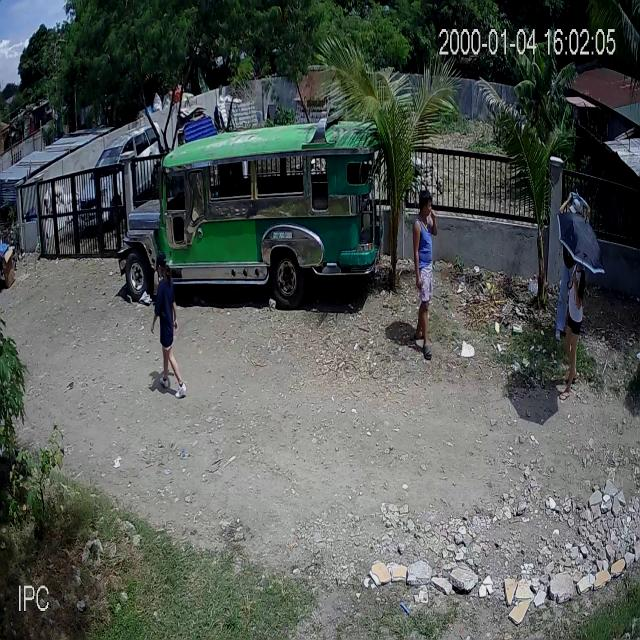standing: (554, 194, 586, 344)
walking: (408, 191, 442, 364), (149, 248, 186, 401), (552, 251, 587, 404)
